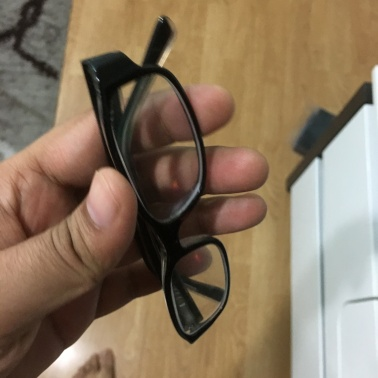glasses: (76, 28, 274, 335)
